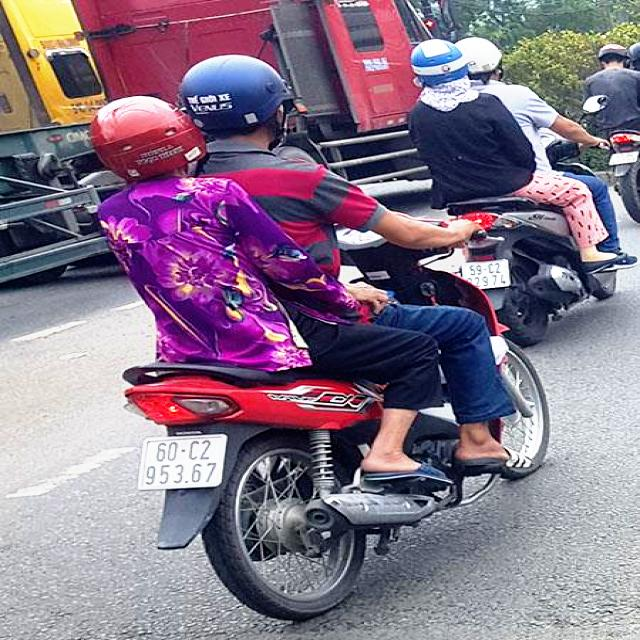license_plate: (144, 434, 227, 492)
